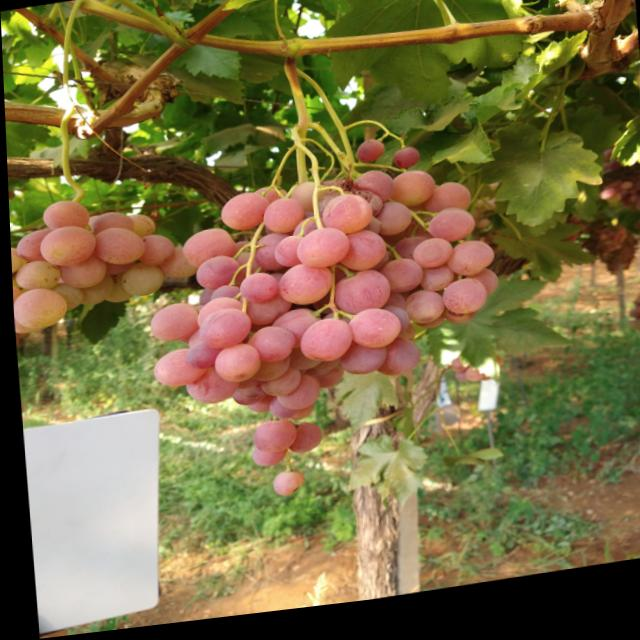grapes: (327, 274, 390, 325), (233, 282, 292, 334), (275, 266, 332, 315), (181, 363, 237, 411), (266, 313, 323, 360), (10, 284, 66, 331), (295, 324, 351, 371), (345, 312, 399, 360), (293, 232, 348, 279), (180, 229, 235, 276), (37, 223, 93, 269), (88, 225, 143, 271), (331, 234, 383, 281), (318, 198, 370, 245), (366, 341, 418, 388), (196, 309, 249, 355), (238, 328, 294, 371), (334, 339, 385, 386), (149, 350, 204, 393), (442, 247, 496, 289), (146, 303, 196, 348), (55, 249, 106, 292), (384, 176, 434, 219), (14, 227, 70, 265), (211, 347, 259, 391), (249, 236, 297, 279), (219, 195, 267, 238), (346, 175, 395, 217), (438, 286, 486, 328), (424, 216, 474, 256), (421, 189, 469, 229), (248, 423, 295, 463), (192, 299, 241, 337), (365, 207, 411, 247), (151, 248, 200, 285), (271, 379, 316, 419), (11, 257, 59, 294), (40, 198, 88, 235), (65, 270, 110, 309), (256, 364, 299, 404), (376, 265, 420, 304), (192, 259, 237, 297), (118, 261, 161, 300), (453, 274, 497, 311), (34, 281, 80, 316), (408, 245, 451, 282), (262, 202, 302, 241), (389, 243, 430, 281), (402, 298, 443, 335), (234, 275, 276, 311), (280, 426, 321, 462), (367, 307, 405, 345), (249, 188, 290, 223), (89, 211, 130, 245), (246, 354, 287, 388), (181, 342, 224, 374), (272, 240, 308, 276), (98, 269, 133, 306), (440, 301, 477, 335), (289, 186, 325, 220), (136, 235, 170, 270), (417, 271, 453, 303), (245, 446, 286, 474), (231, 371, 264, 405), (267, 474, 300, 507), (408, 313, 445, 340), (125, 213, 155, 246), (290, 222, 324, 251), (11, 303, 41, 335), (284, 349, 318, 377), (308, 369, 341, 396), (240, 395, 273, 421), (208, 288, 237, 317), (354, 145, 384, 173), (229, 386, 260, 411), (277, 405, 310, 428), (265, 400, 293, 427), (391, 155, 419, 178), (305, 360, 338, 379), (9, 245, 25, 279), (101, 256, 129, 275), (301, 367, 328, 384), (10, 279, 20, 313), (468, 215, 489, 230), (594, 201, 614, 216), (481, 210, 496, 222), (604, 207, 619, 218), (472, 229, 487, 240), (625, 324, 639, 334), (630, 193, 640, 207), (625, 208, 639, 218), (616, 196, 631, 205), (472, 209, 484, 220), (624, 201, 636, 211), (629, 311, 640, 321), (631, 335, 640, 345), (615, 203, 625, 212), (631, 218, 640, 228), (630, 236, 640, 245), (624, 334, 632, 343), (634, 231, 640, 243), (635, 212, 640, 224), (636, 242, 640, 250), (638, 302, 640, 311), (639, 204, 640, 213)
